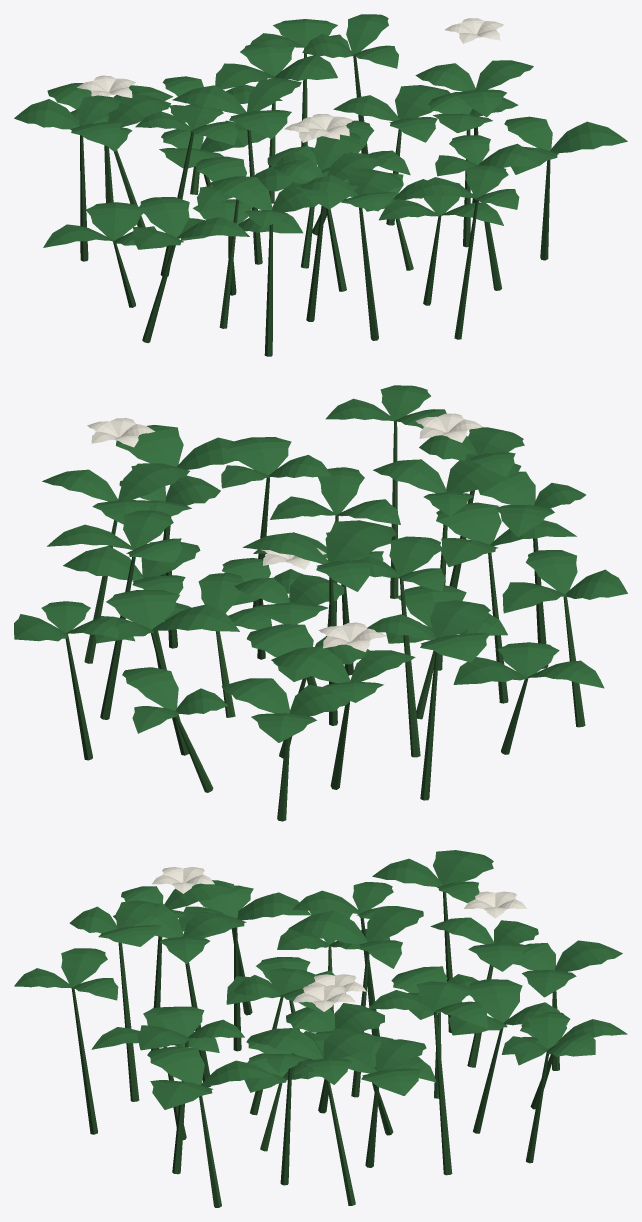
The model's file is detail_wood_sorrel.glb.
3 views of the same model, one above another, from view 1: azimuth 30°, elevation 25°; view 2: azimuth 150°, elevation 25°; view 3: azimuth 270°, elevation 25° (orthographic). The views are drawn at different scales.
Parts seen in each view (by area): view 1: IndividualWoodSorrelLeaves, IndividualWoodSorrelPetals, SorrelStem15, SorrelStem20, SorrelStem23, SorrelStem7, SorrelStem12, SorrelStem22, SorrelStem25, SorrelStem26, SorrelStem2, SorrelStem10 (+3 smaller); view 2: IndividualWoodSorrelLeaves, IndividualWoodSorrelPetals, SorrelStem9, SorrelStem22, SorrelStem16, SorrelStem24, SorrelStem25, SorrelStem12, SorrelStem23, SorrelStem14, SorrelStem21, SorrelStem27 (+1 smaller); view 3: IndividualWoodSorrelLeaves, IndividualWoodSorrelPetals, SorrelStem16, SorrelStem15, SorrelStem23, SorrelStem21, SorrelStem13, SorrelStem26, SorrelStem24, SorrelStem11, SorrelStem18, SorrelStem8 (+1 smaller).
Boxes of the visible parts, bbox=[...] form: IndividualWoodSorrelLeaves: bbox=[14, 14, 627, 249]; IndividualWoodSorrelPetals: bbox=[77, 18, 503, 142]; SorrelStem15: bbox=[359, 207, 378, 340]; SorrelStem20: bbox=[264, 224, 272, 356]; SorrelStem23: bbox=[454, 200, 478, 339]; SorrelStem7: bbox=[306, 206, 324, 321]; SorrelStem12: bbox=[219, 199, 238, 328]; SorrelStem22: bbox=[80, 135, 88, 261]; SorrelStem25: bbox=[142, 245, 175, 342]; SorrelStem26: bbox=[540, 160, 550, 260]; SorrelStem2: bbox=[326, 208, 346, 291]; SorrelStem10: bbox=[423, 216, 441, 305]; IndividualWoodSorrelLeaves: bbox=[14, 385, 627, 742]; IndividualWoodSorrelPetals: bbox=[87, 413, 483, 651]; SorrelStem9: bbox=[399, 578, 420, 757]; SorrelStem22: bbox=[420, 652, 438, 800]; SorrelStem16: bbox=[100, 557, 135, 719]; SorrelStem24: bbox=[65, 633, 92, 760]; SorrelStem25: bbox=[563, 596, 585, 727]; SorrelStem12: bbox=[488, 553, 508, 703]; SorrelStem23: bbox=[390, 421, 398, 598]; SorrelStem14: bbox=[330, 701, 350, 789]; SorrelStem21: bbox=[84, 520, 117, 663]; SorrelStem27: bbox=[277, 737, 289, 821]; IndividualWoodSorrelLeaves: bbox=[14, 850, 627, 1109]; IndividualWoodSorrelPetals: bbox=[152, 867, 526, 1011]; SorrelStem16: bbox=[433, 1011, 452, 1175]; SorrelStem15: bbox=[118, 942, 139, 1101]; SorrelStem23: bbox=[72, 989, 97, 1134]; SorrelStem21: bbox=[326, 1080, 355, 1205]; SorrelStem13: bbox=[280, 1067, 291, 1185]; SorrelStem26: bbox=[199, 1095, 221, 1207]; SorrelStem24: bbox=[526, 1051, 548, 1163]; SorrelStem11: bbox=[473, 1027, 503, 1133]; SorrelStem18: bbox=[172, 1041, 188, 1174]; SorrelStem8: bbox=[365, 1085, 378, 1167].
Size of the model in its own units: 0.9864 by 0.3857 by 1.01.
